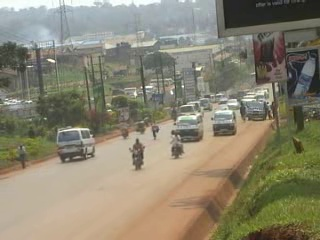Motorcycle: (127, 145, 146, 173), (168, 139, 182, 162), (118, 126, 131, 140), (134, 123, 147, 136)
